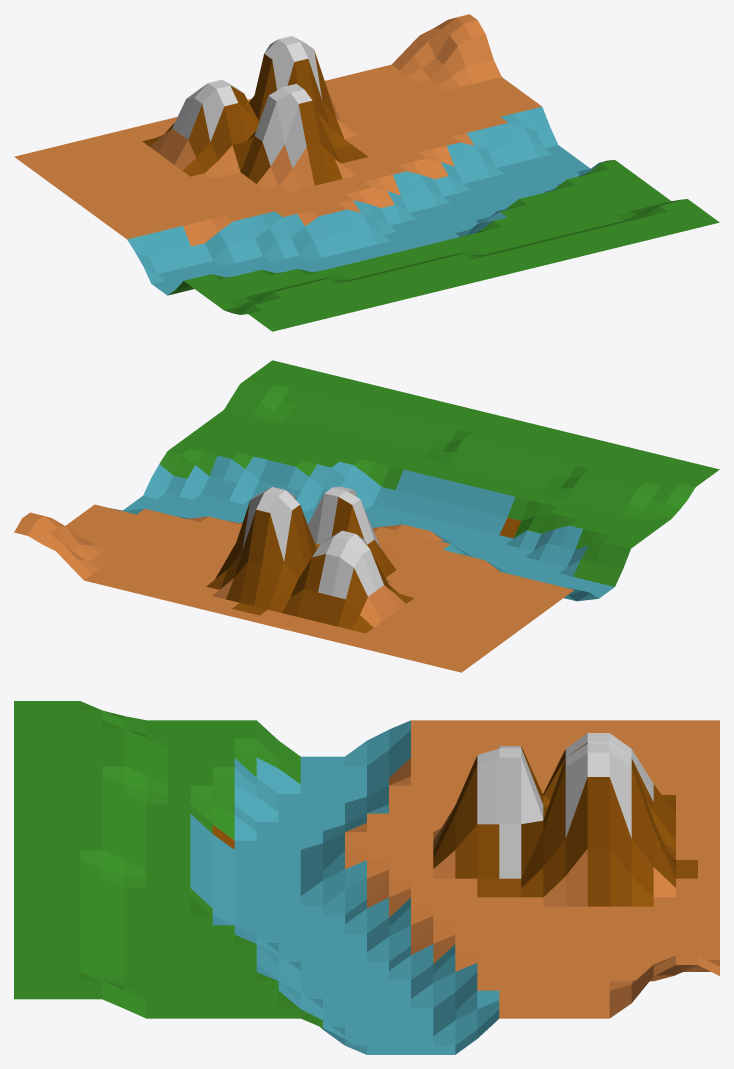
Rendered from Land_RiverAcross.fbx.
3 renders of one model, top to bottom at view 1: azimuth 30°, elevation 25°; view 2: azimuth 150°, elevation 25°; view 3: azimuth 270°, elevation 25°, orthographic. The views are drawn at different scales.
Parts seen in each view (by area): view 1: Plane; view 2: Plane; view 3: Plane.
Part boxes in pixels (x1=…): Plane: x1=14, y1=14, x2=719, y2=331; Plane: x1=14, y1=360, x2=719, y2=672; Plane: x1=14, y1=701, x2=719, y2=1054.
Bounding box in the file's own units: 15.76 × 4 × 15.76.
